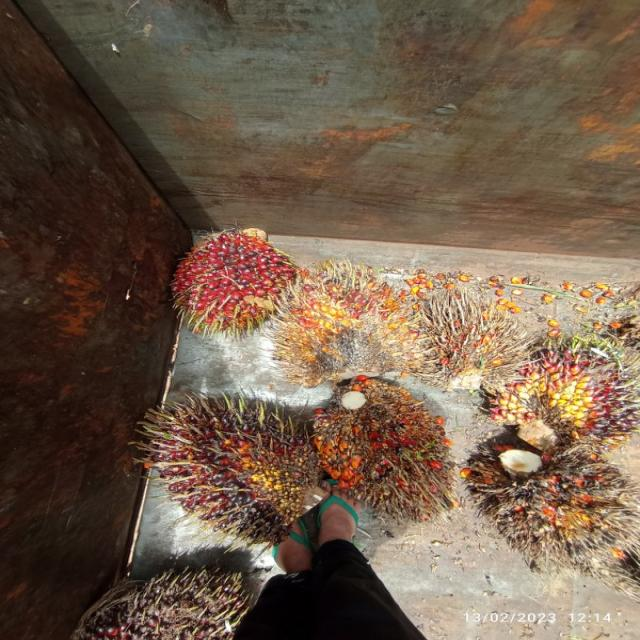fraksi 00: (489, 325, 631, 454)
fraksi 1: (134, 380, 328, 538)
fraksi 3: (153, 197, 306, 352), (310, 366, 470, 514), (248, 264, 422, 380)
fraksi 4: (483, 444, 631, 573), (398, 274, 518, 394)
